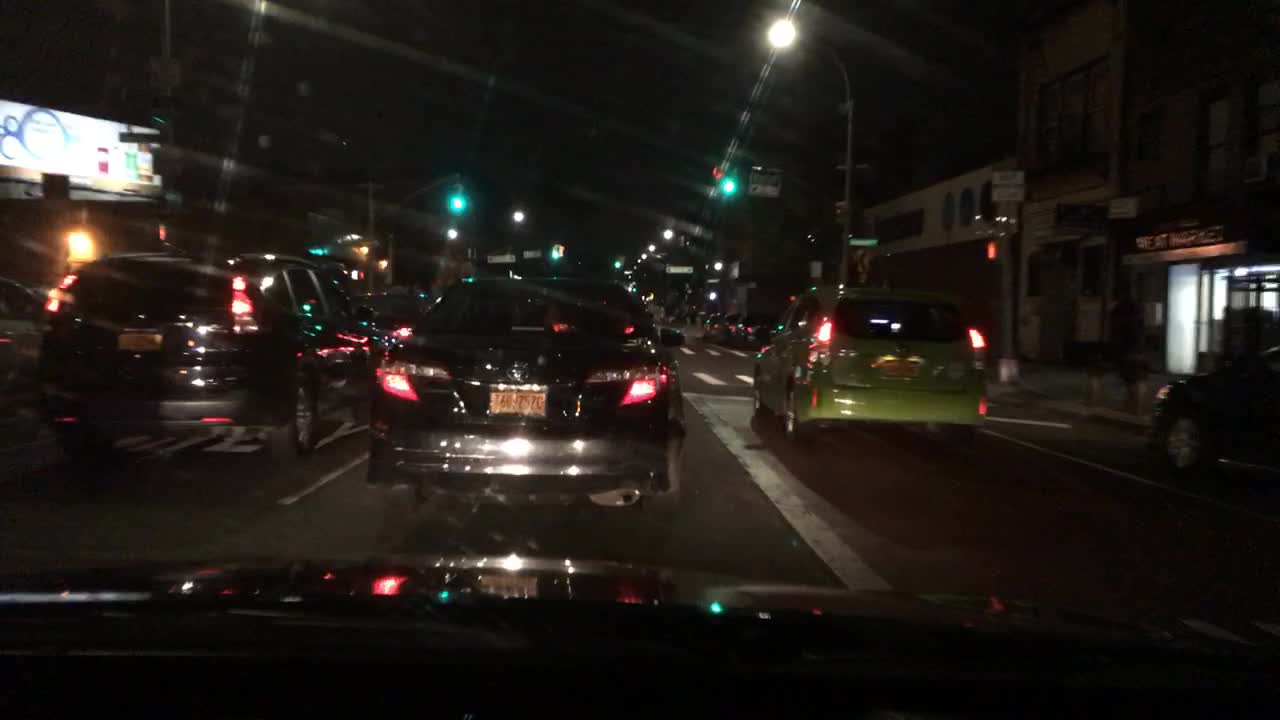car: (371, 279, 685, 520), (33, 252, 399, 452), (748, 285, 988, 451), (1145, 344, 1277, 480), (0, 278, 48, 446), (348, 288, 441, 349), (734, 309, 781, 353), (703, 309, 728, 340), (727, 311, 743, 348), (632, 290, 649, 312), (641, 287, 655, 305)
person: (1110, 280, 1149, 413), (656, 297, 666, 323), (688, 303, 698, 321)
traffic light: (721, 160, 739, 197), (449, 180, 464, 209), (711, 159, 722, 197), (149, 222, 168, 244), (985, 242, 1001, 262), (550, 243, 558, 262), (358, 270, 371, 281), (613, 259, 622, 272), (350, 270, 358, 282), (709, 290, 717, 302), (631, 283, 637, 296)
traffic sign: (747, 165, 782, 199), (151, 59, 182, 86), (989, 187, 1025, 202), (118, 132, 164, 143), (991, 169, 1025, 183), (852, 249, 870, 272), (132, 172, 159, 187), (665, 263, 696, 275), (808, 258, 823, 279), (849, 237, 879, 247), (484, 255, 516, 264), (521, 249, 541, 260)
